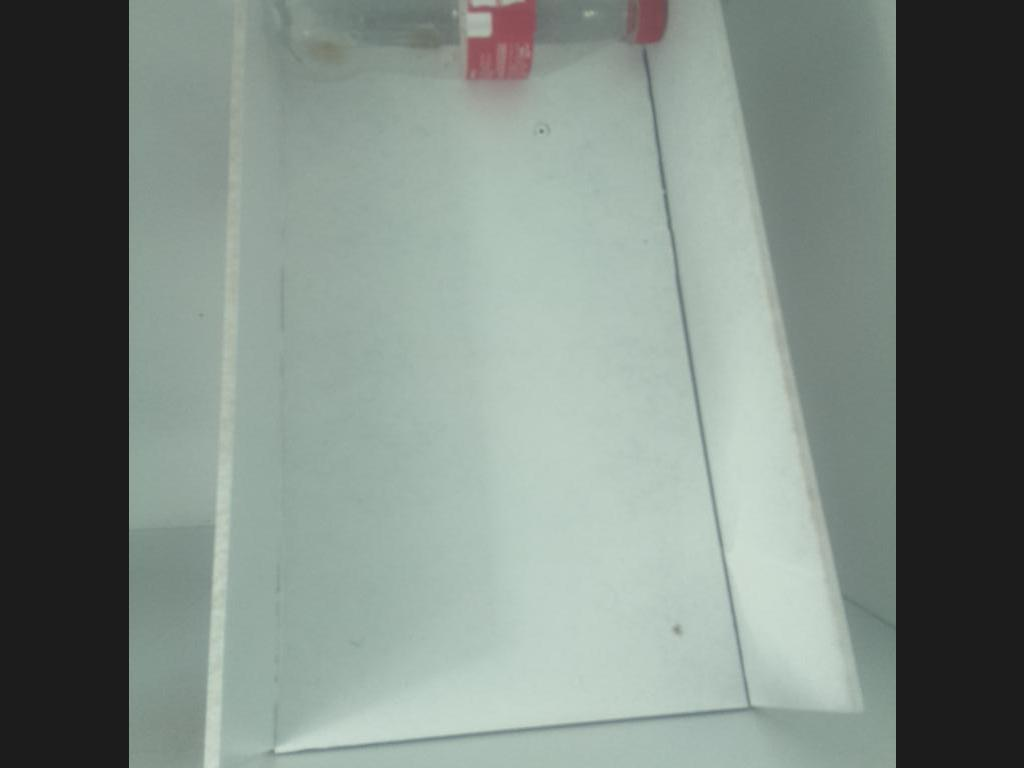bottle: (263, 0, 689, 131)
